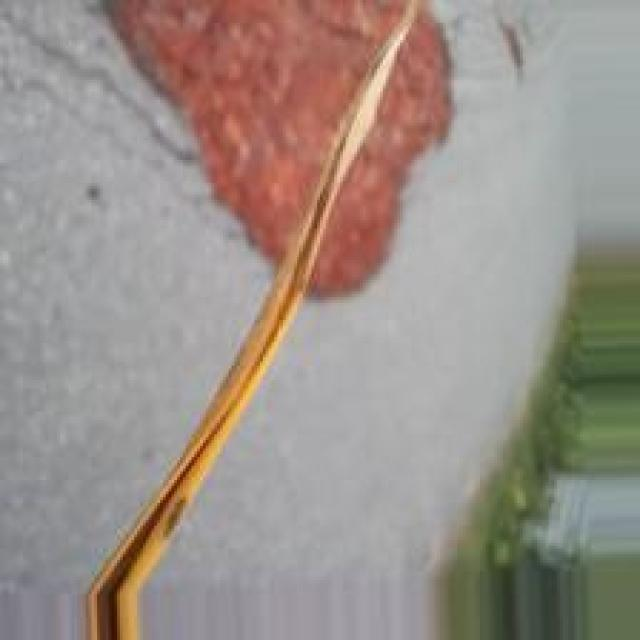Rice False Smut: (89, 163, 345, 592)
